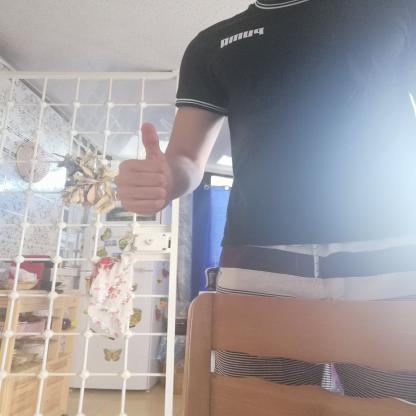ALIF: (104, 112, 184, 224)
